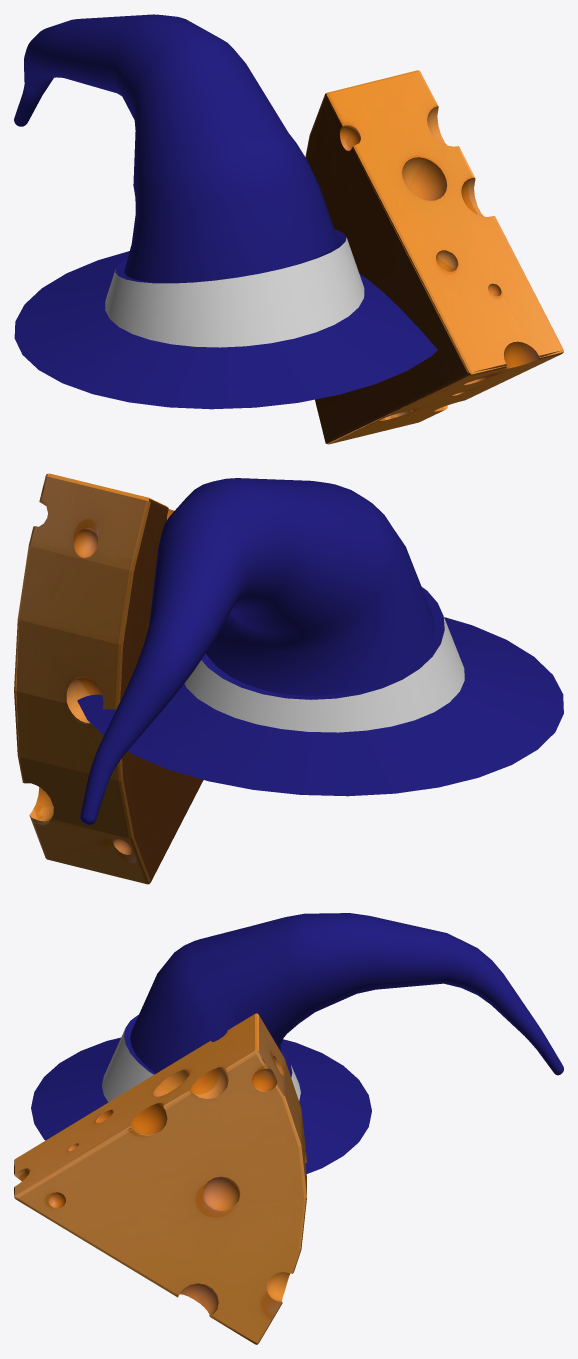
File: WorldItem_WitchyHat2.fbx
3 views of the same model, one above another, from view 1: azimuth 30°, elevation 25°; view 2: azimuth 150°, elevation 25°; view 3: azimuth 270°, elevation 25° (orthographic). The views are drawn at different scales.
Visible parts, largest first — view 1: Circle, Circle.001; view 2: Circle, Circle.001; view 3: Circle.001, Circle.
Boxes of the visible parts, box(x1,y1,x2,y2) form: Circle: box(14, 14, 437, 409); Circle.001: box(305, 70, 563, 444); Circle: box(77, 478, 563, 824); Circle.001: box(14, 473, 203, 884); Circle.001: box(14, 1013, 306, 1344); Circle: box(31, 913, 563, 1173).
Size of the model in its own units: 0.3447 by 0.3277 by 0.4724.
